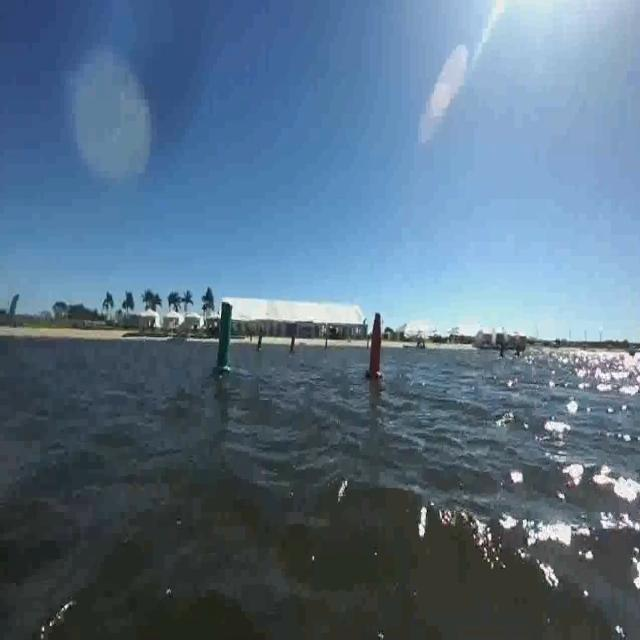green-column-buoy: (212, 300, 236, 378), (255, 332, 264, 353)
red-column-buoy: (367, 311, 386, 382)
